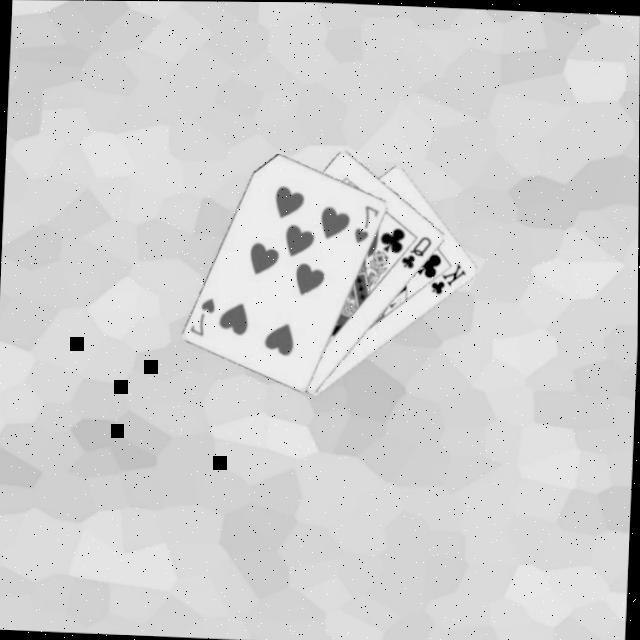7H: (351, 202, 383, 248), (187, 294, 219, 340)
KC: (421, 260, 470, 300)
QC: (399, 234, 436, 272)
